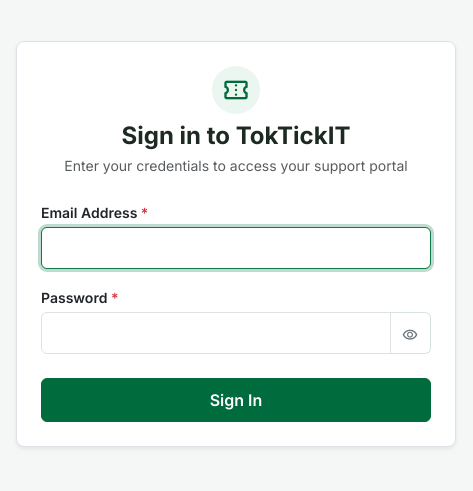
Test case: Login UI Component (UI-01, AC-01, AC-05) › shows client validation errors when submitting empty form
Click the button "Sign In": (236, 400) [41,378,431,422]
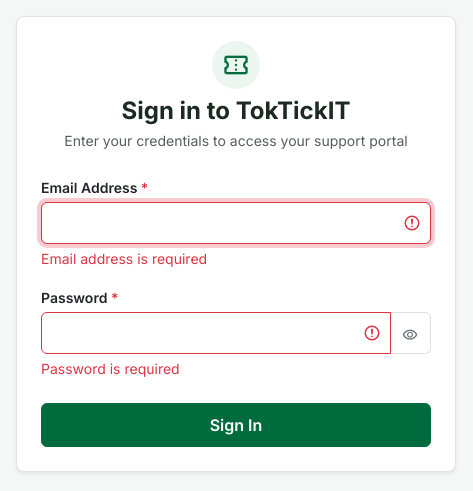
Expected: the text "Email address is required" is shown, [41,250,207,267]
Expected: the text "Password is required" is shown, [41,360,180,377]
